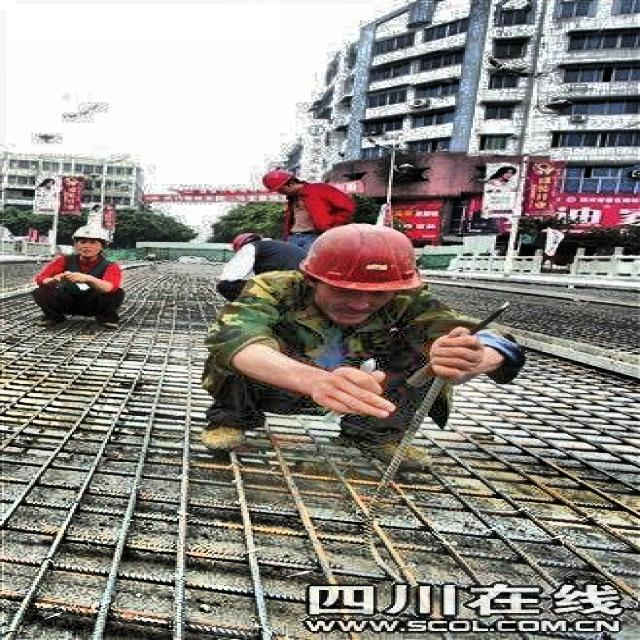helmet: (302, 222, 420, 322), (66, 221, 117, 260), (259, 167, 303, 194), (226, 230, 264, 256)
